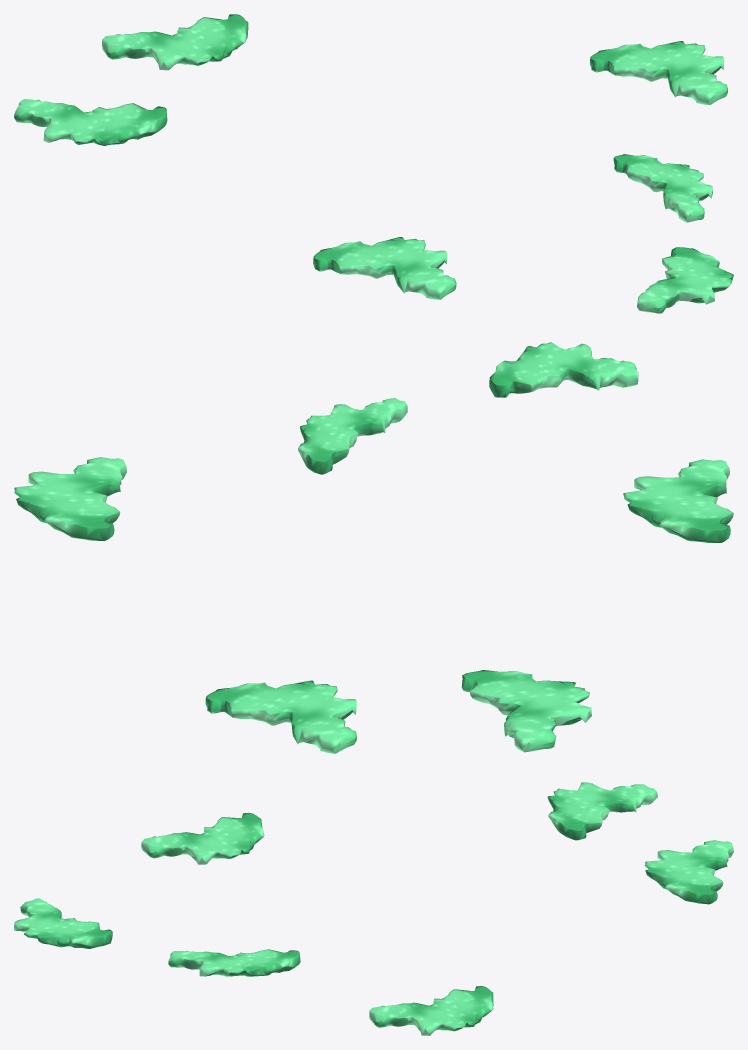
Rendered from LV8Acid.fbx.
3 renders of one model, top to bottom at view 1: azimuth 30°, elevation 25°; view 2: azimuth 150°, elevation 25°; view 3: azimuth 270°, elevation 25°, orthographic. The views are drawn at different scales.
Parts seen in each view (by area): view 1: RockWalkway_45; view 2: RockWalkway_45; view 3: RockWalkway_45.
Part boxes in pixels (left/top/right/bottom): RockWalkway_45: left=14, top=14, right=733, bottom=313; RockWalkway_45: left=14, top=342, right=733, bottom=753; RockWalkway_45: left=14, top=782, right=733, bottom=1035.
Bounding box in the file's own units: 251 × 5.81 × 308.
